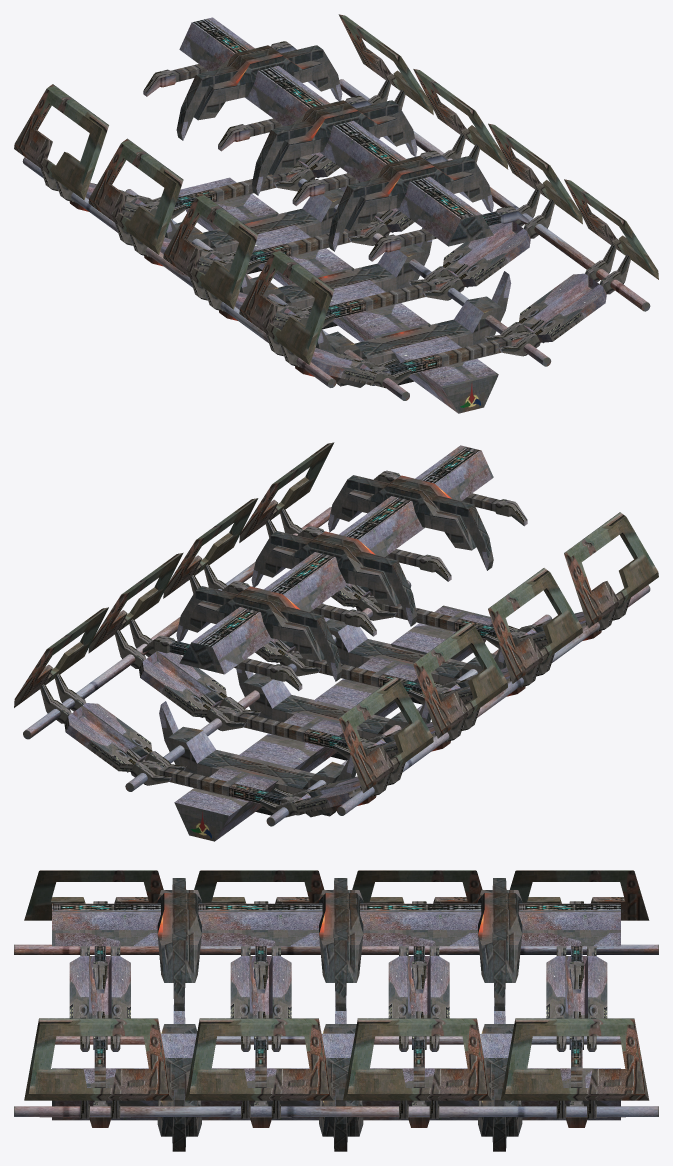
Rendered from Kling_Shipyard.fbx.
3 renders of one model, top to bottom at view 1: azimuth 30°, elevation 25°; view 2: azimuth 150°, elevation 25°; view 3: azimuth 270°, elevation 25°, orthographic. The views are drawn at different scales.
Visible parts, largest first — view 1: Kling_Shipyard; view 2: Kling_Shipyard; view 3: Kling_Shipyard.
Part boxes in pixels (left/top/right/bottom): Kling_Shipyard: left=14, top=14, right=658, bottom=413; Kling_Shipyard: left=14, top=442, right=658, bottom=841; Kling_Shipyard: left=14, top=870, right=658, bottom=1151.
Size of the model in its own units: 605 by 344 by 908.
Materials: 1 (1 with a texture image).
